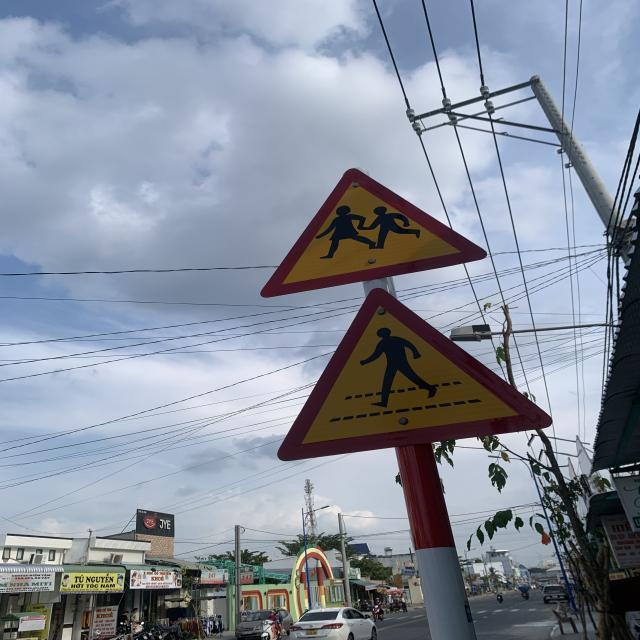Duong_Nguoi_Di_Bo_Sang_Ngang: (277, 286, 554, 462)
Vong_Xuyen: (260, 167, 486, 297)
